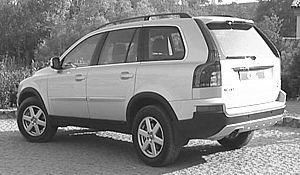car: (16, 14, 287, 166)
